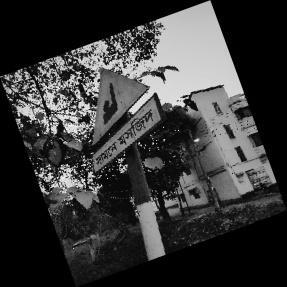Mosque in front: (84, 61, 165, 180)
